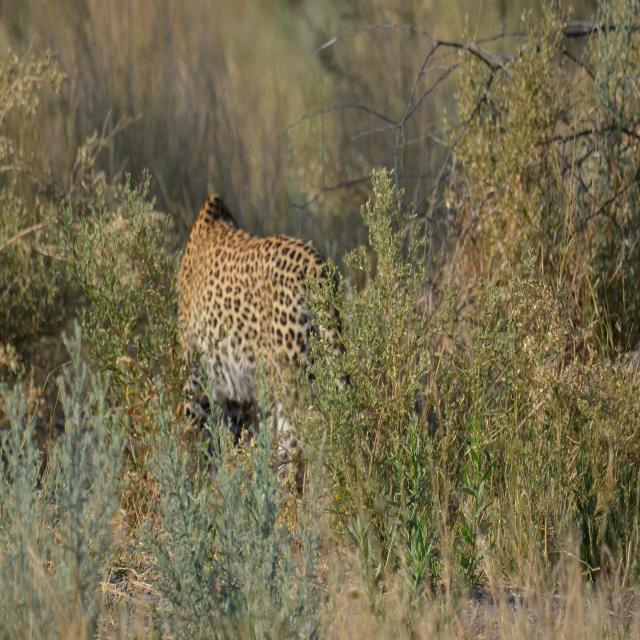Leopard: (176, 194, 367, 493)
